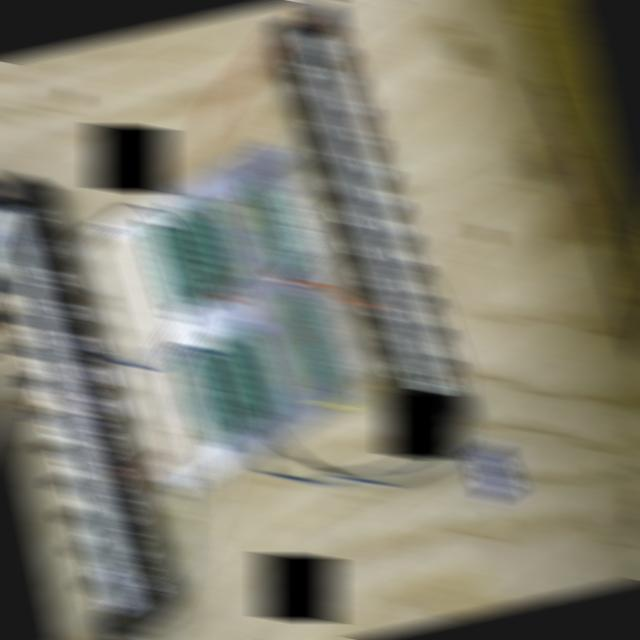Flathead_Block: (271, 0, 476, 441)
Phillips_Block: (0, 170, 166, 640)
Terminal_1: (243, 177, 299, 273), (279, 292, 335, 388)
Terminal_2: (186, 193, 241, 286), (176, 350, 231, 443), (162, 205, 216, 297), (203, 337, 256, 429), (229, 323, 282, 415)
